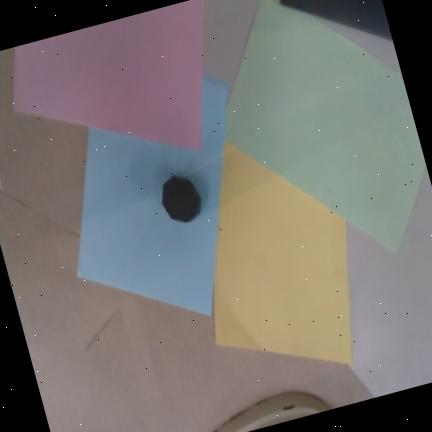Prisma_hexagonal: (161, 174, 201, 223)
